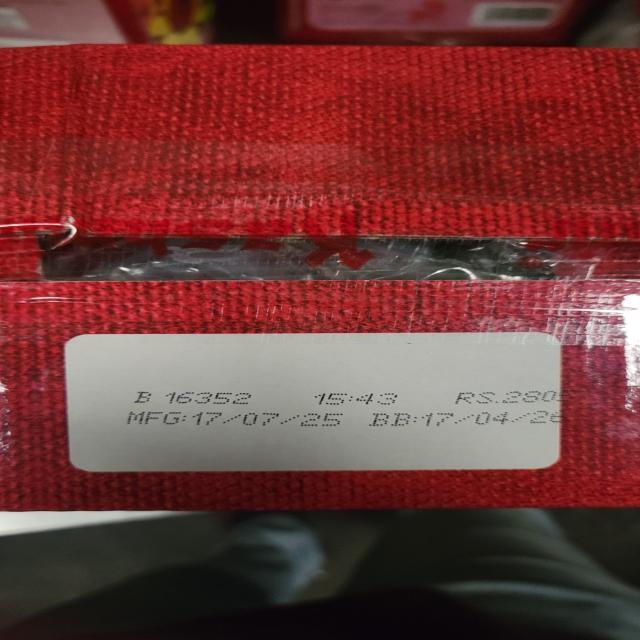BB: (371, 410, 563, 428)
Batch: (129, 388, 256, 404)
MFG: (127, 411, 349, 430)
RS: (454, 390, 562, 404)
TimeStamp: (311, 392, 401, 406)
